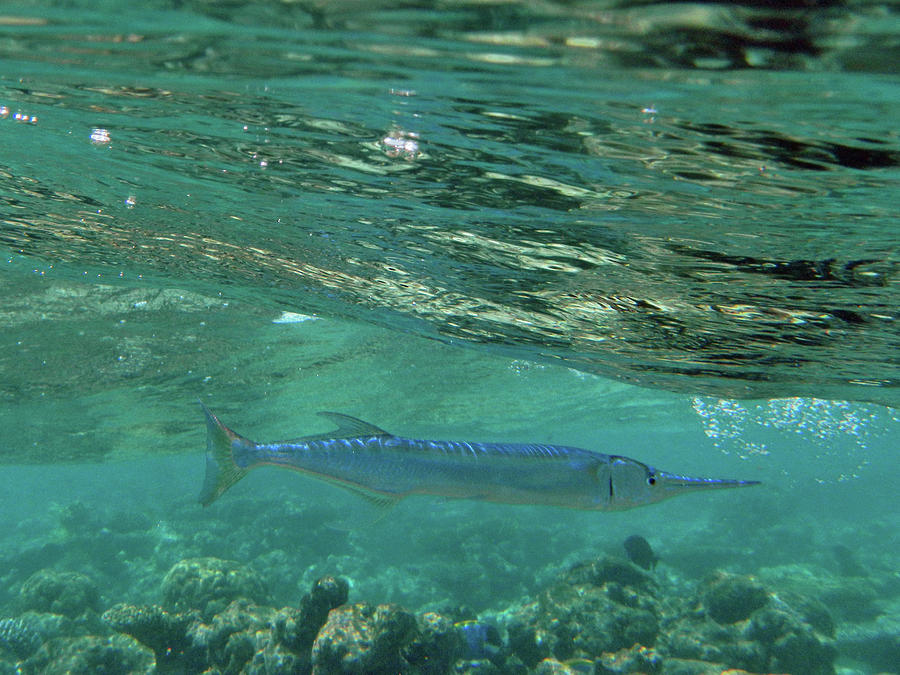swordfish: (177, 381, 774, 545)
